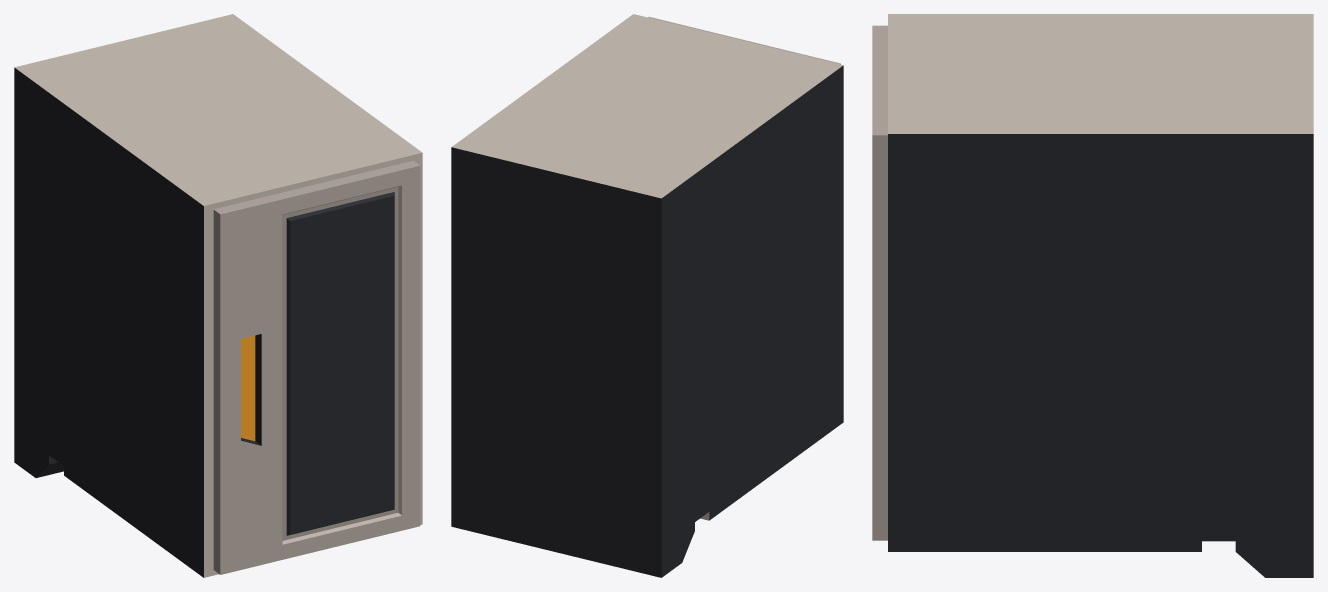
Rendered from SM_Wall_Locker_02.glb.
The picture shows the model from 3 angles, left to right: view 1: azimuth 30°, elevation 25°; view 2: azimuth 150°, elevation 25°; view 3: azimuth 270°, elevation 25°; orthographic projection. The views are drawn at different scales.
Visible parts, largest first — view 1: SM_Wall_Locker_02; view 2: SM_Wall_Locker_02; view 3: SM_Wall_Locker_02.
Boxes of the visible parts, x1,y1,x2,y2 form: SM_Wall_Locker_02: (14, 14, 422, 577); SM_Wall_Locker_02: (451, 14, 843, 577); SM_Wall_Locker_02: (872, 14, 1313, 577).
Bounding box in the file's own units: 0.4 × 0.6902 × 0.622.
Materials: 1 (1 with a texture image).
